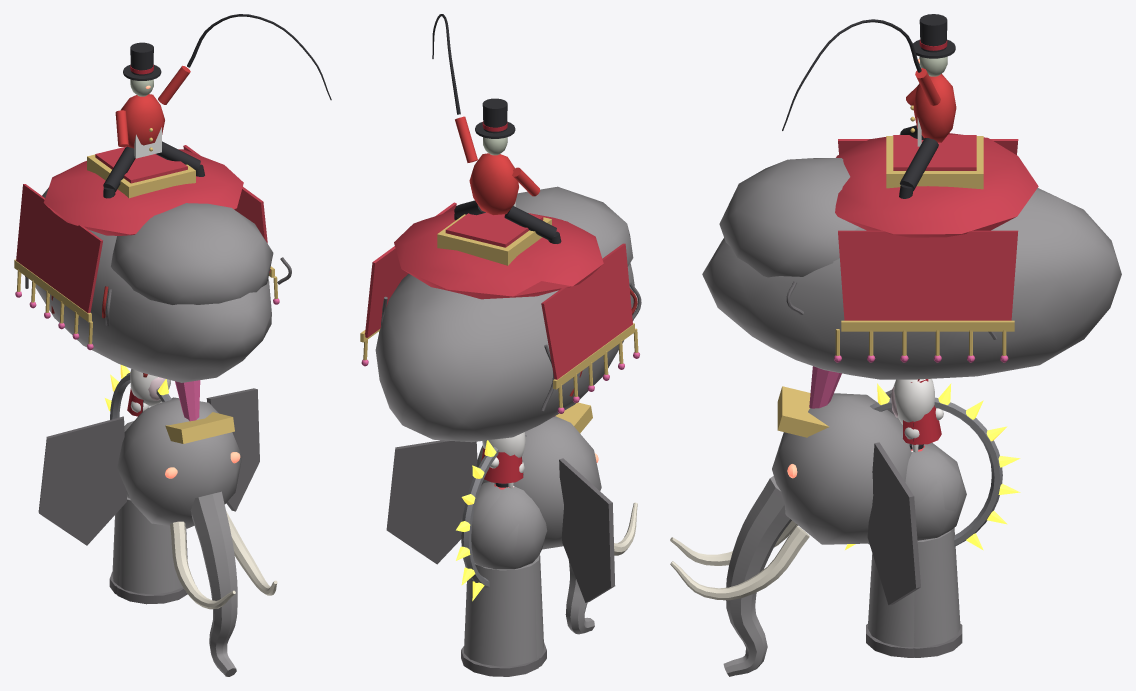
File: parkzombie.glb
The picture shows the model from 3 angles, left to right: view 1: azimuth 30°, elevation 25°; view 2: azimuth 150°, elevation 25°; view 3: azimuth 270°, elevation 25°; orthographic projection. The views are drawn at different scales.
Parts seen in each view (by area): view 1: elephant_head, elephant_body, elephant_howdah, ringmaster_rider, elephant_leg_front, mascot_suit, fire_hoop, elephant_leg_back; view 2: elephant_body, elephant_howdah, elephant_head, elephant_leg_back, ringmaster_rider, elephant_leg_front, fire_hoop, magician_cape, mascot_suit; view 3: elephant_body, elephant_howdah, elephant_head, elephant_leg_back, ringmaster_rider, elephant_leg_front, fire_hoop, mascot_suit, magician_cape.
Part boxes in pixels (x1=…): elephant_head: x1=38, y1=380, x2=277, y2=676; elephant_body: x1=25, y1=187, x2=291, y2=382; elephant_howdah: x1=14, y1=145, x2=279, y2=350; ringmaster_rider: x1=103, y1=14, x2=331, y2=198; elephant_leg_front: x1=117, y1=491, x2=187, y2=604; mascot_suit: x1=130, y1=369, x2=170, y2=412; fire_hoop: x1=105, y1=365, x2=171, y2=419; elephant_leg_back: x1=109, y1=421, x2=144, y2=594; elephant_body: x1=375, y1=186, x2=641, y2=442; elephant_howdah: x1=360, y1=202, x2=639, y2=413; elephant_head: x1=386, y1=402, x2=637, y2=634; elephant_leg_back: x1=460, y1=487, x2=547, y2=676; ringmaster_rider: x1=432, y1=14, x2=561, y2=243; elephant_leg_front: x1=471, y1=482, x2=546, y2=666; fire_hoop: x1=456, y1=434, x2=526, y2=601; magician_cape: x1=481, y1=448, x2=523, y2=483; mascot_suit: x1=482, y1=432, x2=525, y2=472; elephant_body: x1=702, y1=158, x2=1121, y2=379; elephant_howdah: x1=834, y1=133, x2=1038, y2=362; elephant_head: x1=670, y1=366, x2=920, y2=676; elephant_leg_back: x1=895, y1=442, x2=966, y2=657; ringmaster_rider: x1=782, y1=14, x2=956, y2=198; elephant_leg_front: x1=866, y1=446, x2=961, y2=657; fire_hoop: x1=845, y1=383, x2=1020, y2=550; mascot_suit: x1=891, y1=378, x2=943, y2=439; magician_cape: x1=903, y1=379, x2=941, y2=444.
Bounding box in the file's own units: 4.51 × 11.13 × 6.52.
